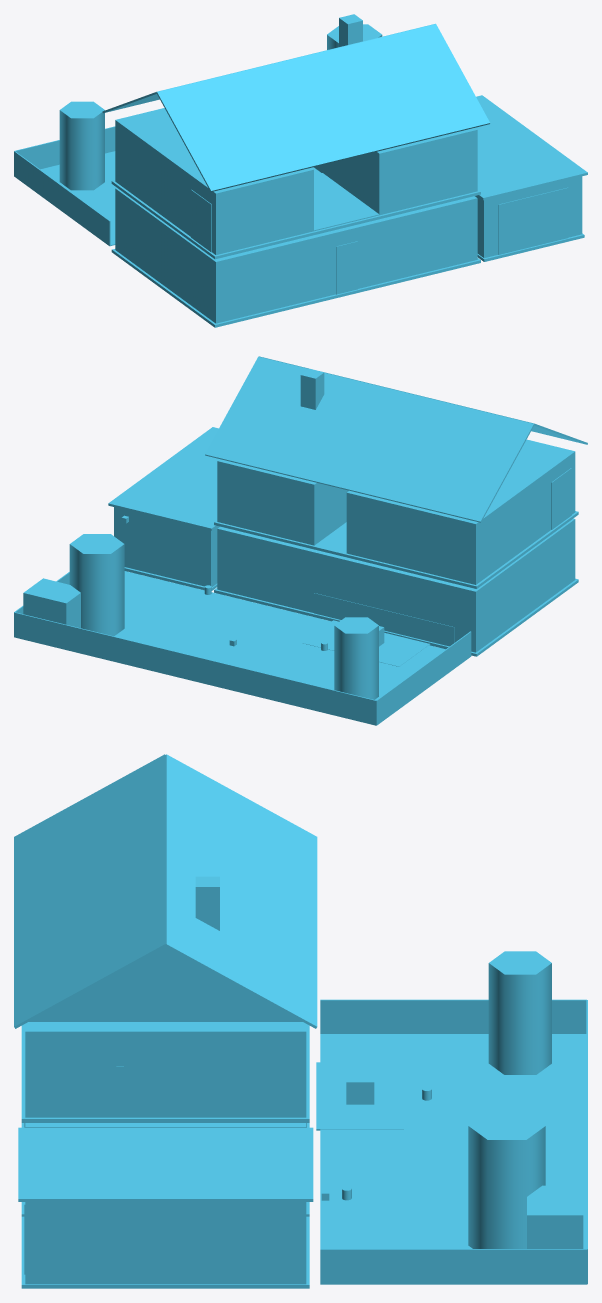
The model's file is house.glb.
The picture shows the model from 3 angles, top to bottom: view 1: azimuth 30°, elevation 25°; view 2: azimuth 150°, elevation 25°; view 3: azimuth 270°, elevation 25°; orthographic projection. The views are drawn at different scales.
Visible parts, largest first — view 1: Structure_roof_front, living_room_room, bedroom_room, guest_room_room, gym_room, Structure_garage_roof, ensuite_room, garden_furn_tree_a, garage_dev_garage_door, kitchen_room, garage_room, Structure_fence_-6_-8.2 (+12 smaller); view 2: Structure_roof_back, garden_room, kitchen_room, Structure_fence_2.4_-12, office_room, ensuite_room, Structure_garage_roof, garage_room, utility_room, garden_furn_tree_b, bedroom_room, bathroom_room (+11 smaller); view 3: garden_room, Structure_roof_front, Structure_roof_back, garage_room, Structure_garage_roof, guest_room_room, office_room, Structure_gable_east, Structure_fence_10.8_-8.2, garden_furn_tree_b, garden_furn_tree_a, Structure_fence_-6_-8.2 (+7 smaller).
Boxes of the visible parts, <box> form: Structure_roof_front: <box>157,24,489,191</box>; living_room_room: <box>159,220,313,323</box>; bedroom_room: <box>159,146,313,254</box>; guest_room_room: <box>322,128,477,215</box>; gym_room: <box>366,196,477,286</box>; Structure_garage_roof: <box>475,95,587,200</box>; ensuite_room: <box>115,108,184,213</box>; garden_furn_tree_a: <box>59,101,104,190</box>; garage_dev_garage_door: <box>498,187,568,254</box>; kitchen_room: <box>115,188,160,281</box>; garage_room: <box>475,176,582,257</box>; Structure_fence_-6_-8.2: <box>14,151,110,246</box>; Structure_roof_back: <box>205,356,534,522</box>; garden_room: <box>114,571,445,700</box>; kitchen_room: <box>292,545,519,652</box>; Structure_fence_2.4_-12: <box>14,612,376,725</box>; office_room: <box>217,459,348,545</box>; ensuite_room: <box>411,487,519,584</box>; Structure_garage_roof: <box>108,427,219,530</box>; garage_room: <box>114,507,219,586</box>; utility_room: <box>217,526,295,607</box>; garden_furn_tree_b: <box>69,534,124,636</box>; bedroom_room: <box>500,439,575,552</box>; bathroom_room: <box>346,490,413,568</box>; garden_room: <box>320,1034,586,1248</box>; Structure_roof_front: <box>14,754,165,1028</box>; Structure_roof_back: <box>165,754,317,1028</box>; garage_room: <box>25,1202,306,1284</box>; Structure_garage_roof: <box>18,1127,313,1201</box>; guest_room_room: <box>25,1022,183,1117</box>; office_room: <box>183,1022,306,1117</box>; Structure_gable_east: <box>29,947,302,1021</box>; Structure_fence_10.8_-8.2: <box>320,1249,586,1284</box>; garden_furn_tree_b: <box>468,1111,545,1248</box>; garden_furn_tree_a: <box>488,951,551,1074</box>; Structure_fence_-6_-8.2: <box>320,999,586,1033</box>.
Size of the model in its own units: 17.35 by 9.22 by 16.35.
